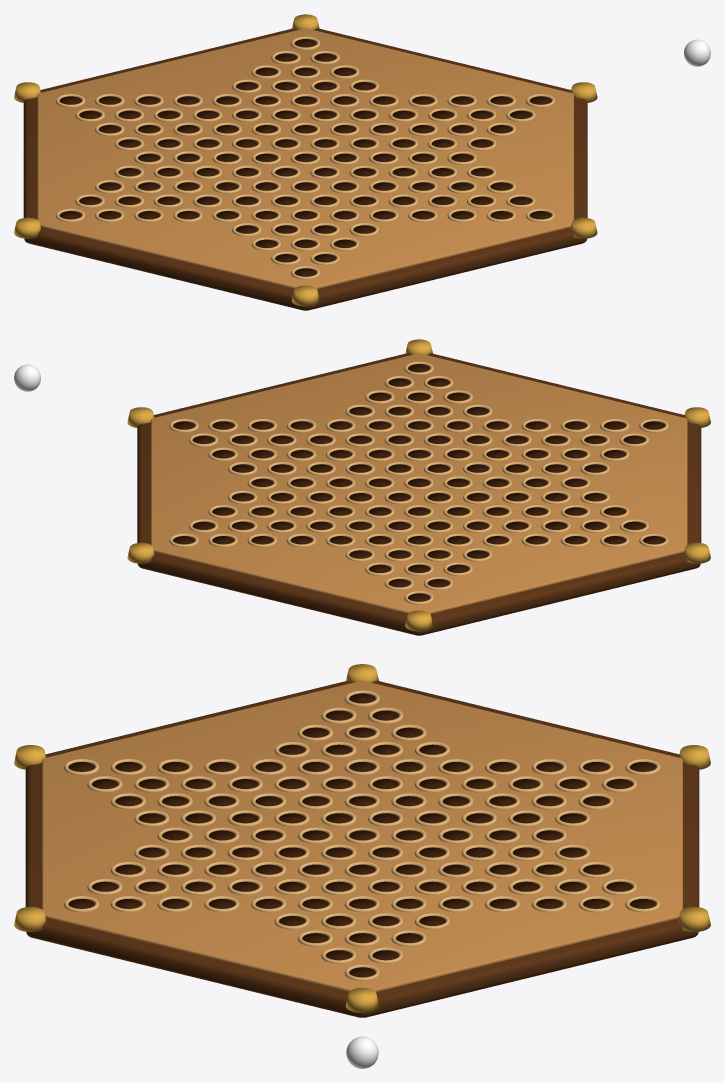
Rendered from checkers.glb.
3 renders of one model, top to bottom at view 1: azimuth 30°, elevation 25°; view 2: azimuth 150°, elevation 25°; view 3: azimuth 270°, elevation 25°, orthographic. The views are drawn at different scales.
Parts seen in each view (by area): view 1: Surface, Rings, Holes, Frame, MarbleBall, Corner.004, Corner.003, Corner.005; view 2: Surface, Rings, Holes, Frame, MarbleBall, Corner.002, Corner.003, Corner.001; view 3: Surface, Rings, Holes, Frame, MarbleBall, Corner, Corner.001, Corner.005.
Part boxes in pixels (box(x1,y1,x2,y2)): Surface: box(37, 28, 573, 288); Rings: box(55, 36, 555, 279); Holes: box(59, 39, 551, 276); Frame: box(23, 28, 587, 310); MarbleBall: box(684, 39, 710, 66); Corner.004: box(291, 285, 319, 306); Corner.003: box(14, 217, 40, 238); Corner.005: box(570, 217, 597, 238); Surface: box(151, 353, 687, 613); Rings: box(169, 361, 669, 604); Holes: box(173, 364, 665, 601); Frame: box(137, 353, 701, 635); MarbleBall: box(14, 364, 40, 391); Corner.002: box(405, 610, 433, 631); Corner.003: box(684, 542, 710, 563); Corner.001: box(127, 542, 154, 563); Surface: box(42, 680, 682, 991); Rings: box(63, 690, 661, 980); Holes: box(68, 693, 656, 977); Frame: box(25, 680, 699, 1017); MarbleBall: box(346, 1036, 378, 1068); Corner: box(346, 987, 378, 1012); Corner.001: box(678, 907, 710, 931); Corner.005: box(14, 907, 46, 931).
Size of the model in its own units: 35.4 by 1.9 by 25.81.
